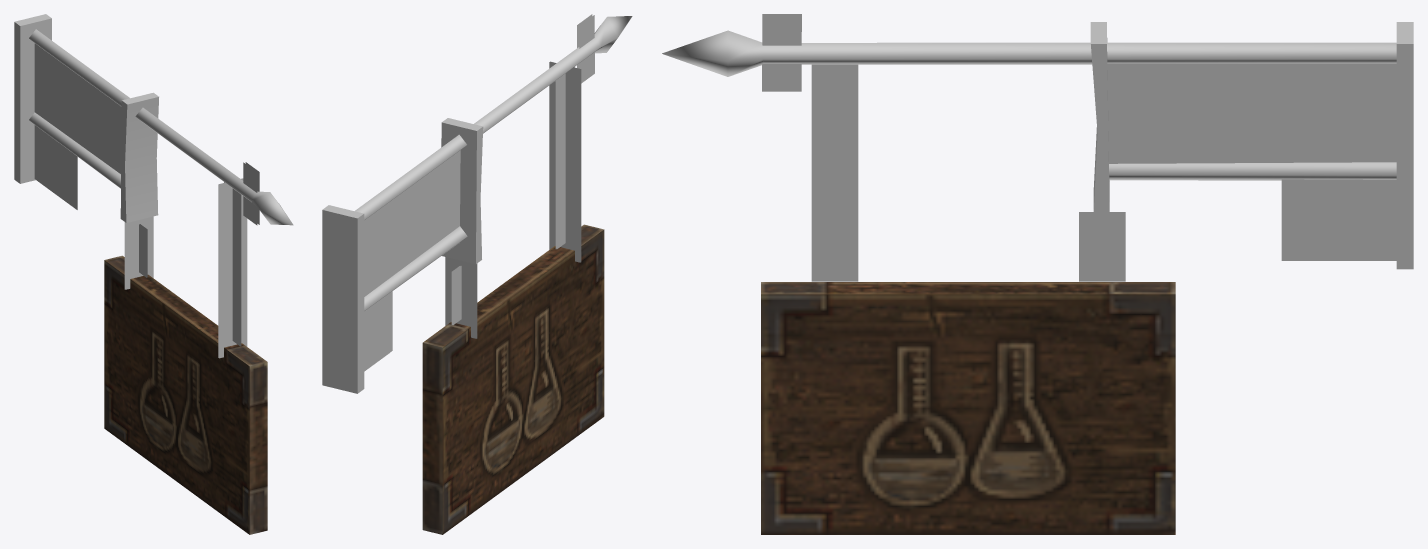
Rendered from Sign03_c.FBX.
3 renders of one model, left to right at view 1: azimuth 30°, elevation 25°; view 2: azimuth 150°, elevation 25°; view 3: azimuth 270°, elevation 25°, orthographic. The views are drawn at different scales.
Parts seen in each view (by area): view 1: Sign03_c; view 2: Sign03_c; view 3: Sign03_c.
Part boxes in pixels (x1=…): Sign03_c: x1=14, y1=14, x2=293, y2=534; Sign03_c: x1=322, y1=14, x2=632, y2=534; Sign03_c: x1=662, y1=14, x2=1413, y2=534.
Bounding box in the file's own units: 10.11 × 109 × 145.
